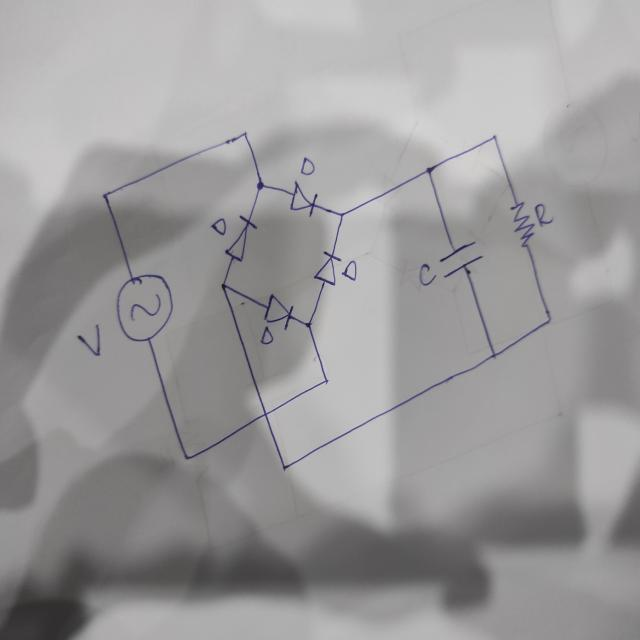capacitor: (437, 238, 484, 280)
crossover: (260, 408, 269, 418)
diode: (224, 214, 258, 264), (262, 292, 294, 331), (288, 180, 318, 219), (311, 249, 341, 286)
junction: (179, 447, 194, 464), (254, 177, 266, 193), (422, 164, 434, 176), (336, 208, 347, 221), (218, 278, 228, 292), (100, 189, 111, 201), (487, 348, 498, 360), (489, 131, 499, 144), (304, 317, 314, 330), (239, 129, 249, 139), (544, 314, 552, 324), (322, 375, 329, 385), (280, 462, 287, 471)
resistor: (508, 200, 534, 248)
source: (113, 272, 174, 342)
text: (75, 322, 101, 357), (533, 201, 553, 228), (417, 261, 436, 286), (341, 258, 357, 282), (299, 154, 315, 176), (258, 324, 274, 346), (210, 216, 228, 235)
